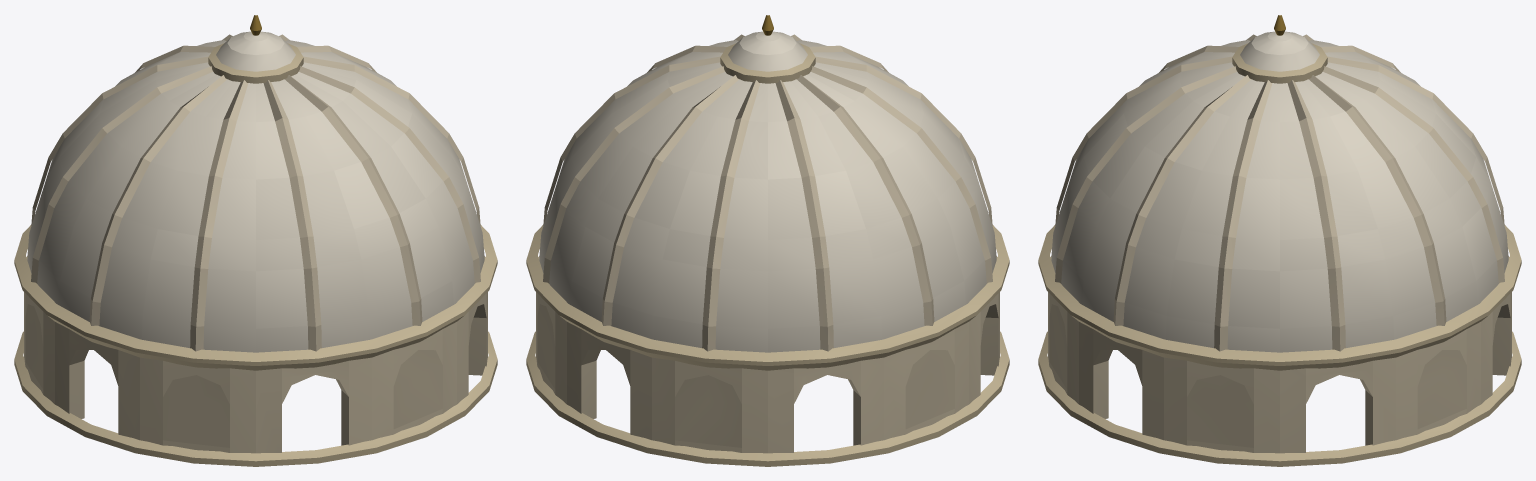
The model's file is dome.hall_12.plaster.glb.
3 renders of one model, left to right at view 1: azimuth 30°, elevation 25°; view 2: azimuth 150°, elevation 25°; view 3: azimuth 270°, elevation 25°, orthographic.
Parts seen in each view (by area): view 1: dome_hall_12_plaster; view 2: dome_hall_12_plaster; view 3: dome_hall_12_plaster.
Part boxes in pixels (x1=…): dome_hall_12_plaster: x1=14, y1=15, x2=497, y2=466; dome_hall_12_plaster: x1=526, y1=15, x2=1009, y2=466; dome_hall_12_plaster: x1=1038, y1=15, x2=1521, y2=466.
Size of what is drawn, in the model's own units: 15.2 by 12.15 by 15.2.
